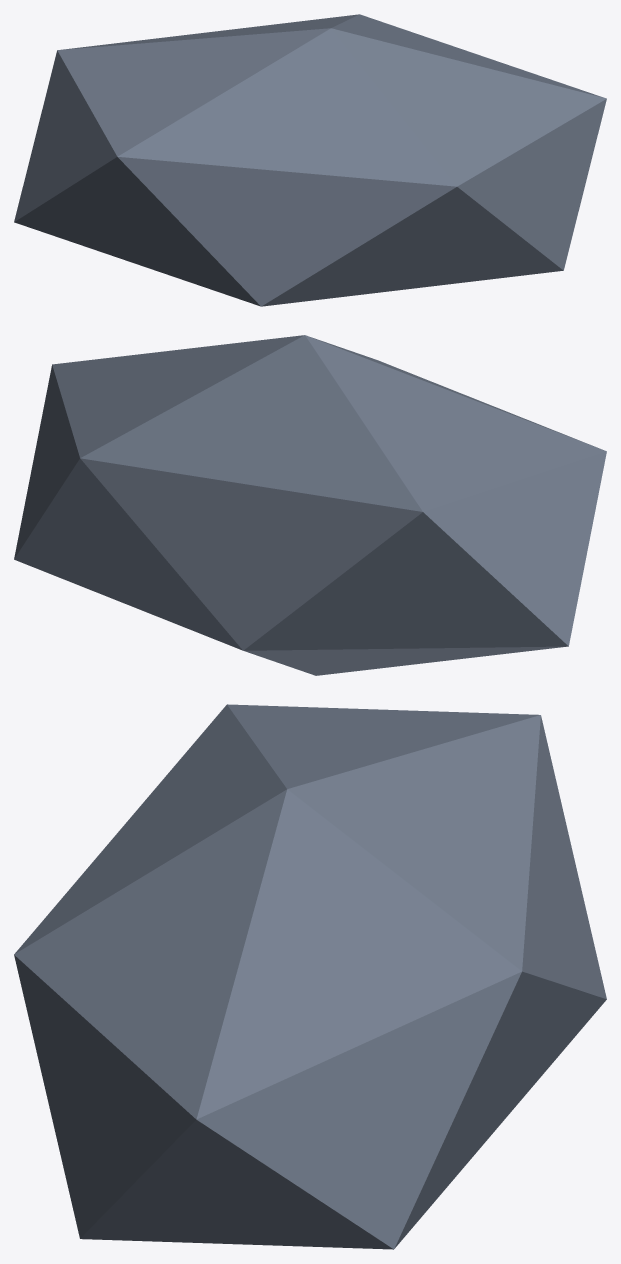
The model's file is EXT_SideScarp_West_00.glb.
3 views of the same model, one above another, from view 1: azimuth 30°, elevation 25°; view 2: azimuth 150°, elevation 25°; view 3: azimuth 270°, elevation 25° (orthographic). The views are drawn at different scales.
Parts seen in each view (by area): view 1: EXT_SideScarp_West_00; view 2: EXT_SideScarp_West_00; view 3: EXT_SideScarp_West_00.
Boxes of the visible parts, x1,y1,x2,y2 form: EXT_SideScarp_West_00: (14, 14, 606, 306); EXT_SideScarp_West_00: (14, 335, 606, 675); EXT_SideScarp_West_00: (14, 704, 606, 1249).
Size of the model in its own units: 4.14 by 2.08 by 2.84.
